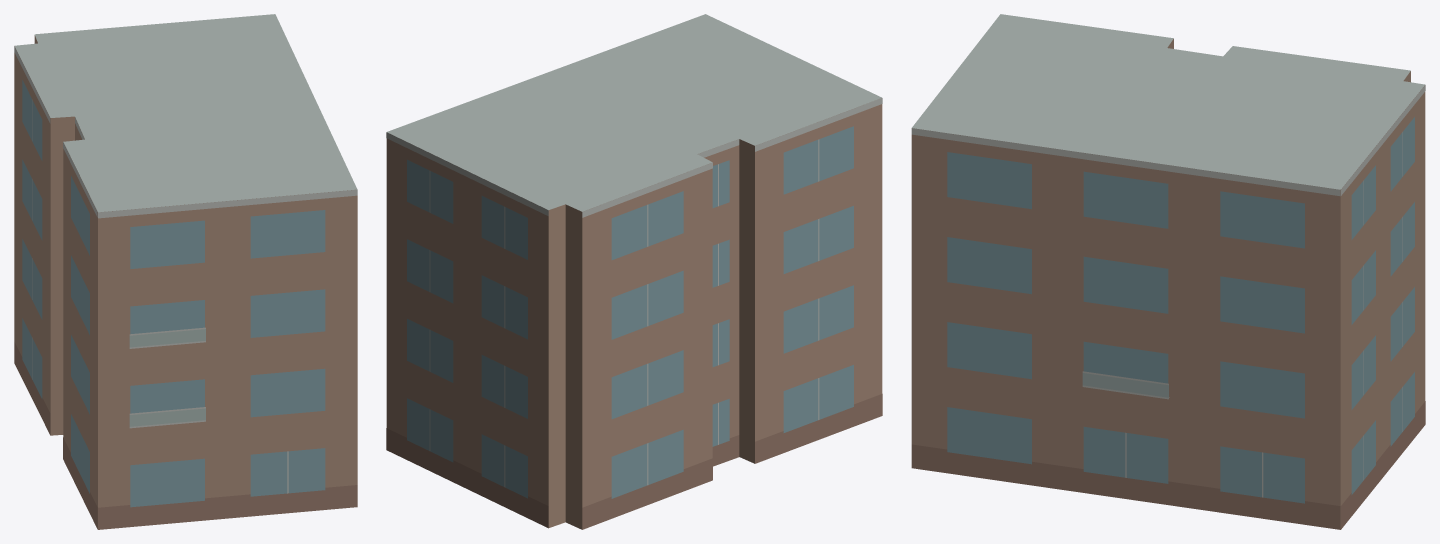
File: survey-upis-33018299.glb
3 renders of one model, left to right at view 1: azimuth 30°, elevation 25°; view 2: azimuth 150°, elevation 25°; view 3: azimuth 270°, elevation 25°, orthographic. The views are drawn at different scales.
Visible parts, largest first — view 1: survey-upis-33018299.tmp; view 2: survey-upis-33018299.tmp; view 3: survey-upis-33018299.tmp.
Boxes of the visible parts, x1,y1,x2,y2 form: survey-upis-33018299.tmp: [14, 14, 357, 529]; survey-upis-33018299.tmp: [386, 14, 882, 529]; survey-upis-33018299.tmp: [911, 14, 1425, 529].
Bounding box in the file's own units: 14.09 × 12.7 × 17.4.
